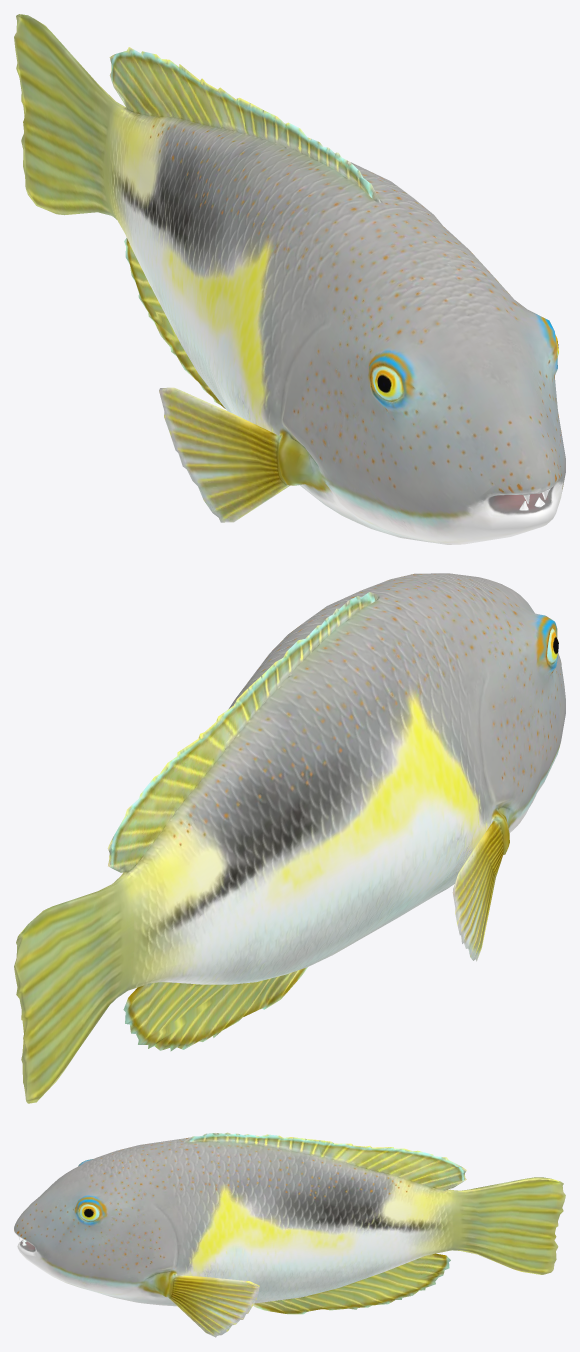
Rendered from tuskfish.glb.
3 renders of one model, top to bottom at view 1: azimuth 30°, elevation 25°; view 2: azimuth 150°, elevation 25°; view 3: azimuth 270°, elevation 25°, orthographic. The views are drawn at different scales.
Parts seen in each view (by area): view 1: orange_tuskfish_LOD2.1; view 2: orange_tuskfish_LOD2.1; view 3: orange_tuskfish_LOD2.1.
Boxes of the visible parts, bbox=[...] form: orange_tuskfish_LOD2.1: bbox=[14, 14, 565, 544]; orange_tuskfish_LOD2.1: bbox=[14, 573, 565, 1103]; orange_tuskfish_LOD2.1: bbox=[14, 1132, 565, 1337].
Bounding box in the file's own units: 0.1189 × 0.135 × 0.3705.
Materials: 1 (1 with a texture image).
